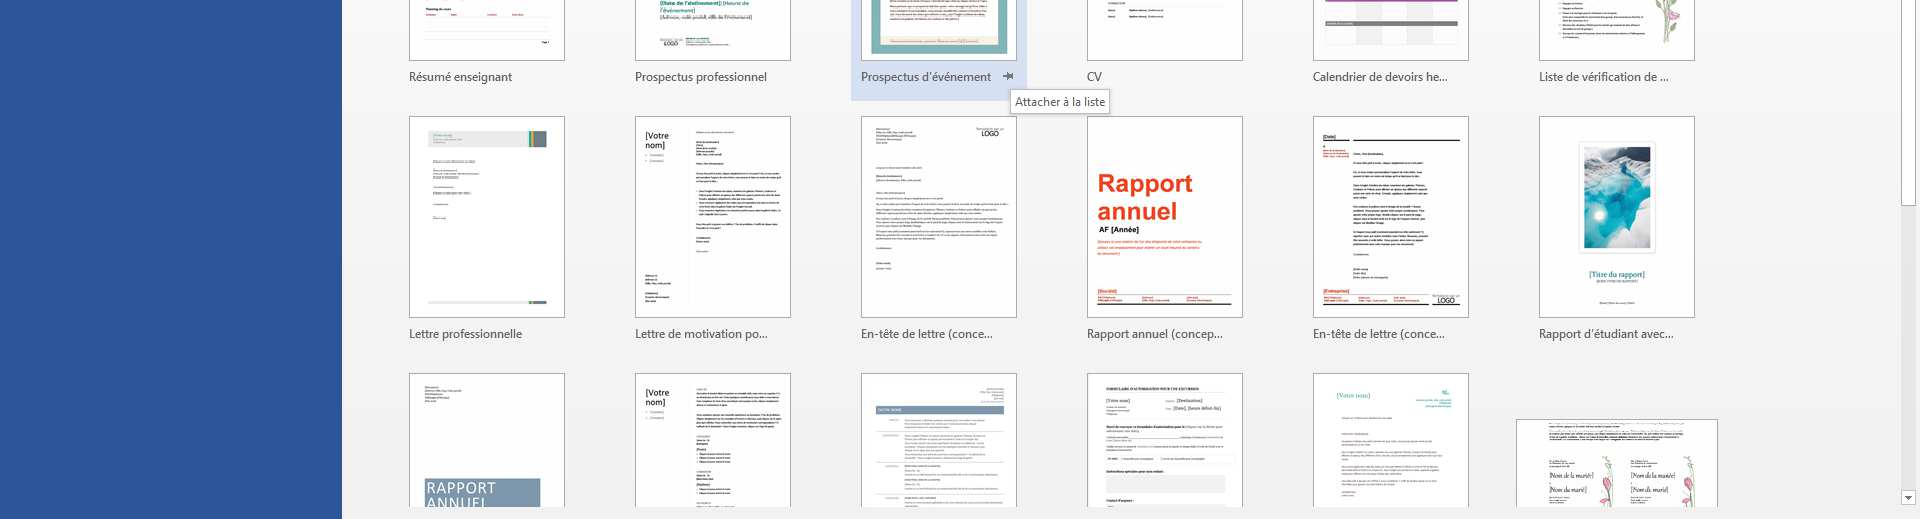texte: (698, 58, 770, 91), (1100, 174, 1191, 197), (632, 58, 693, 91), (1309, 58, 1367, 91), (456, 58, 512, 91), (1584, 315, 1638, 348), (689, 315, 740, 348), (862, 72, 991, 84), (1098, 202, 1176, 222), (407, 58, 451, 91), (1084, 315, 1128, 348), (1536, 315, 1580, 348), (1310, 315, 1352, 348), (1322, 289, 1424, 302), (1400, 315, 1438, 348), (1386, 58, 1422, 91), (1133, 315, 1167, 348), (632, 315, 665, 348), (1010, 92, 1060, 111), (443, 329, 522, 342), (1536, 58, 1564, 91), (1370, 315, 1396, 348), (427, 482, 496, 495), (1643, 315, 1668, 348), (640, 282, 669, 308), (1582, 72, 1668, 81), (1082, 58, 1102, 91), (1427, 58, 1444, 91), (747, 315, 764, 348), (1172, 329, 1213, 342), (862, 329, 915, 338), (670, 315, 682, 348), (949, 329, 984, 340), (1646, 58, 1657, 91), (1085, 97, 1109, 111), (1569, 58, 1578, 91), (904, 315, 913, 348), (1098, 289, 1122, 302), (647, 141, 665, 155), (647, 398, 665, 413), (410, 329, 440, 338), (920, 329, 945, 338), (1108, 82, 1114, 116), (647, 132, 669, 140), (647, 389, 669, 397), (1064, 97, 1080, 106), (1371, 72, 1381, 81), (1356, 329, 1365, 338), (1003, 72, 1013, 80), (1600, 302, 1633, 304)
